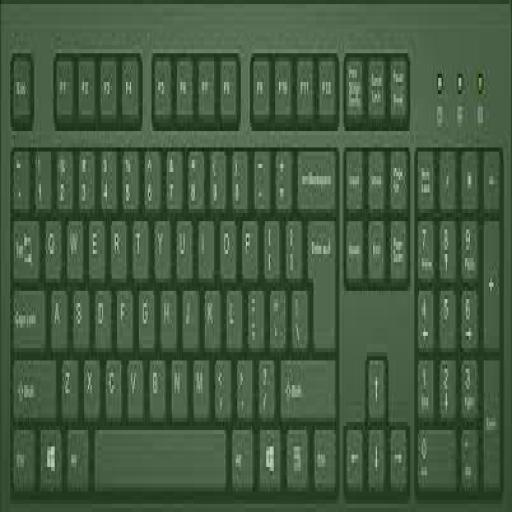KEYBOARD-2: (0, 0, 511, 508)
